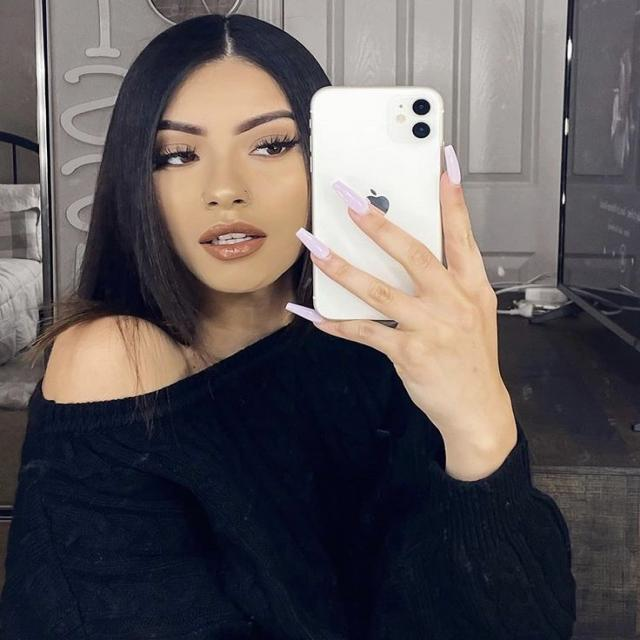phone: (310, 87, 444, 320)
